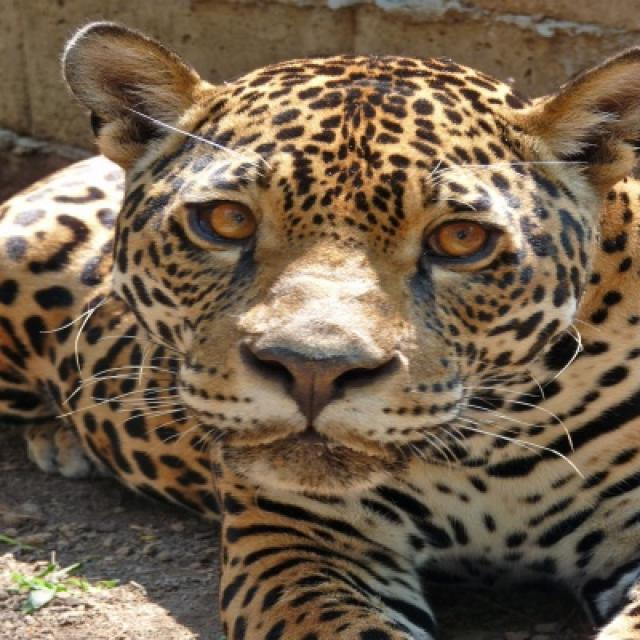Jaguar: (0, 19, 638, 638)
